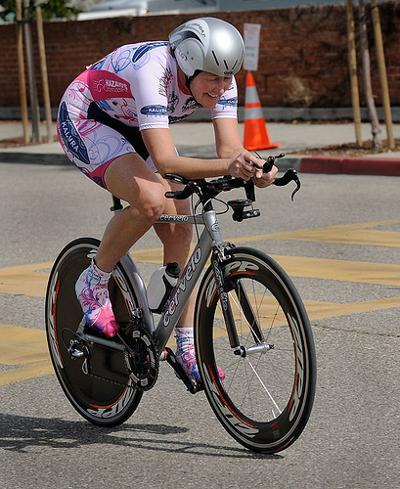person: (57, 17, 277, 388)
